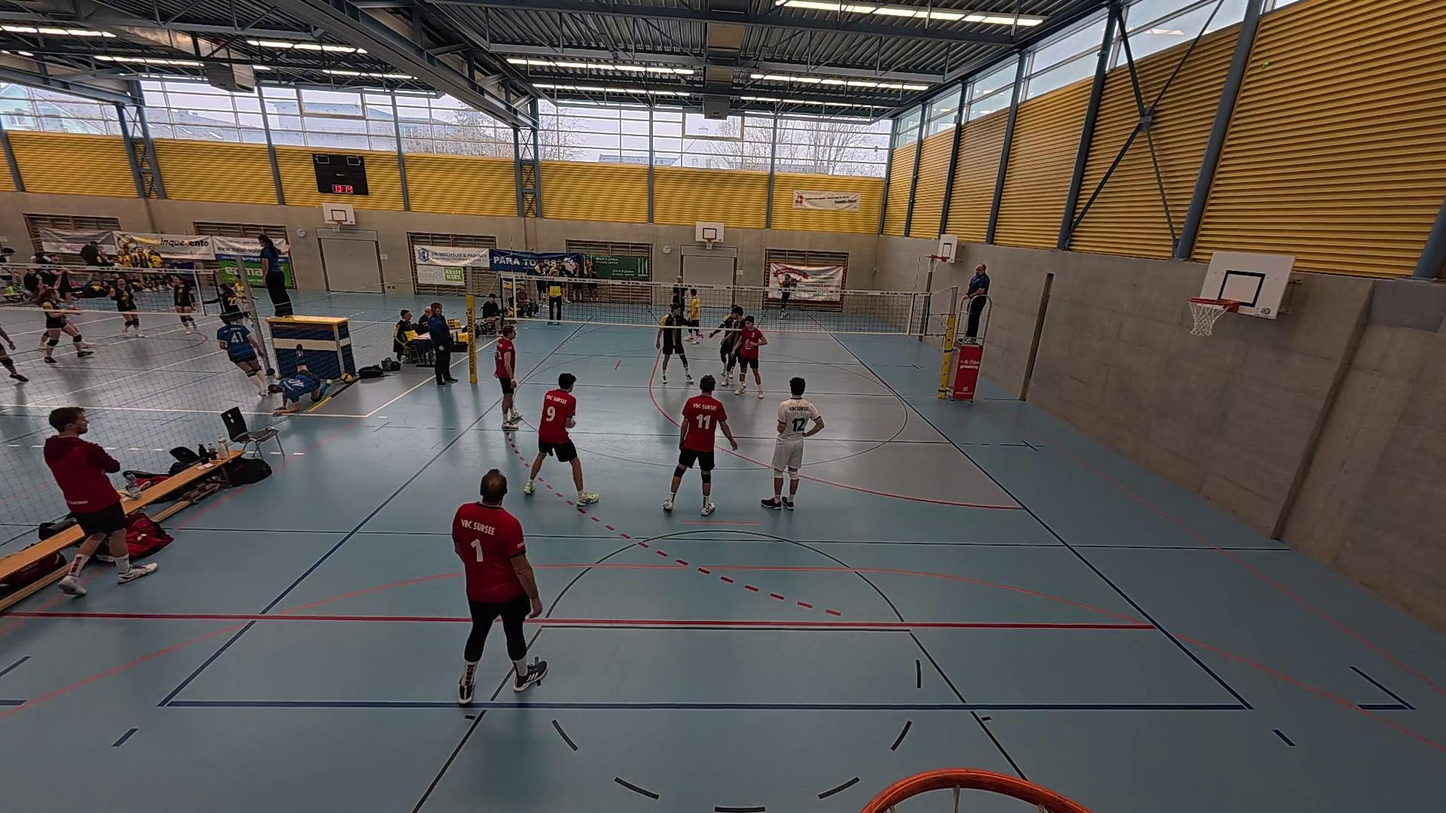Player: (451, 470, 548, 705), (662, 375, 737, 515), (523, 373, 596, 507), (761, 377, 822, 510), (493, 322, 522, 430), (734, 315, 768, 397), (651, 306, 687, 382), (707, 302, 739, 378), (720, 307, 747, 388), (682, 288, 706, 346), (668, 275, 688, 324), (776, 270, 791, 323)
ball: (777, 278, 784, 285)
